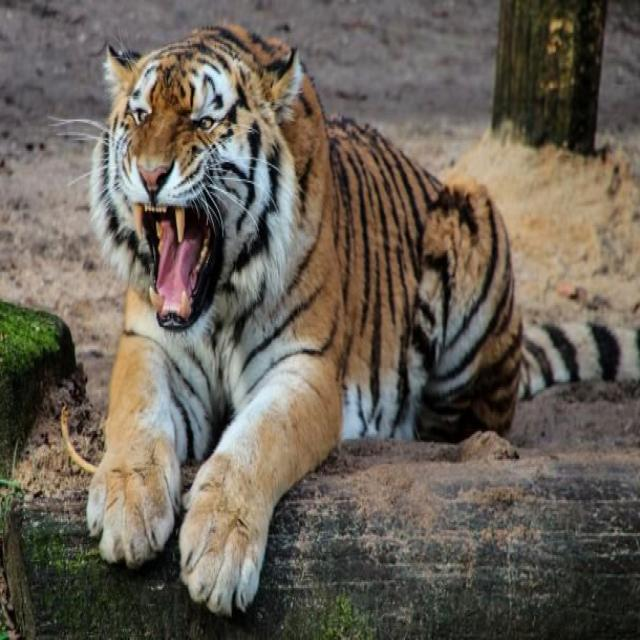tiger: (88, 25, 640, 613)
